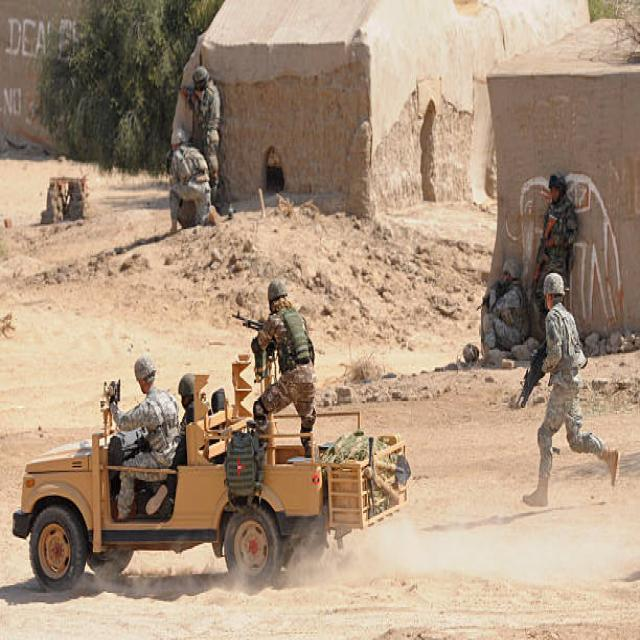soldier: (518, 273, 618, 507), (110, 355, 180, 521), (253, 281, 316, 455), (169, 64, 235, 221), (532, 171, 578, 318), (482, 260, 539, 366), (168, 126, 218, 234), (173, 373, 195, 466)
